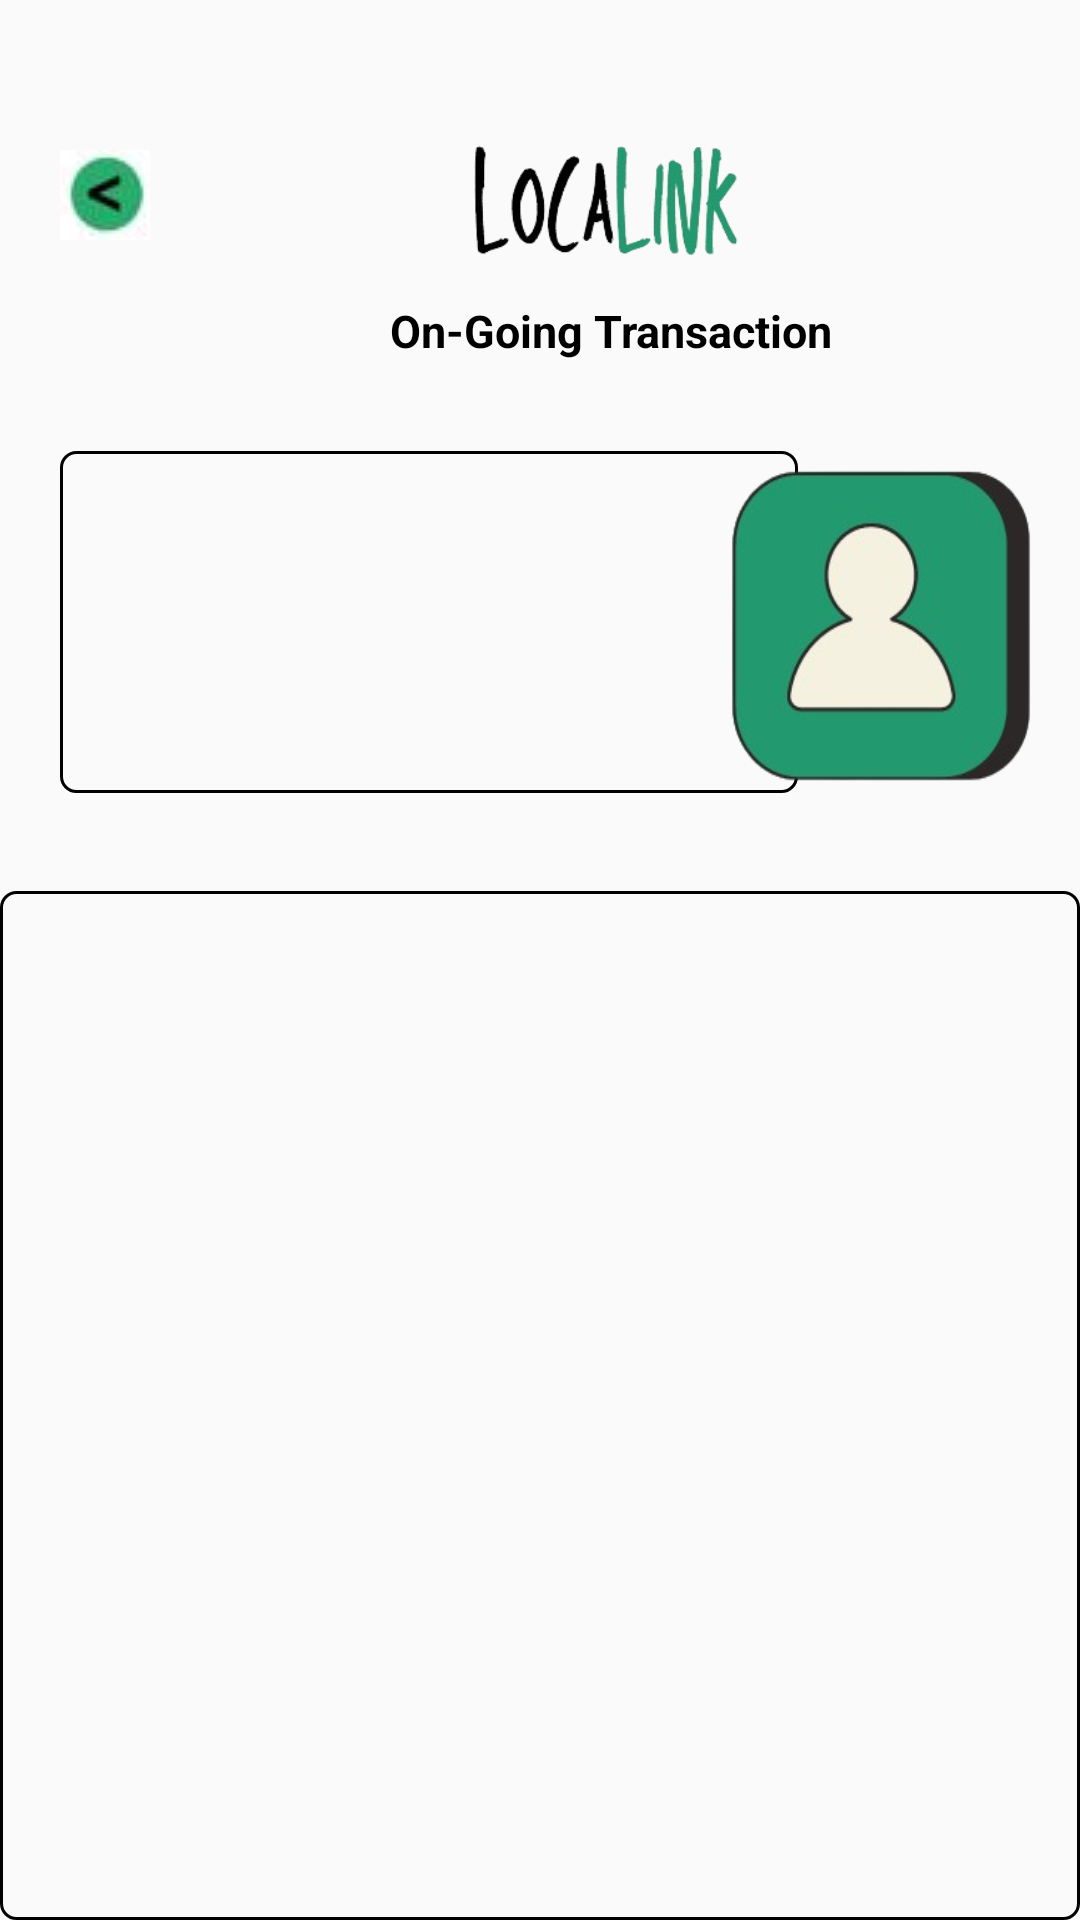

Screen size 1080px×1920px. Icon name, then its box in pixels as (x1, y1, x2, y2):
backbtn: (68, 154, 145, 235)
